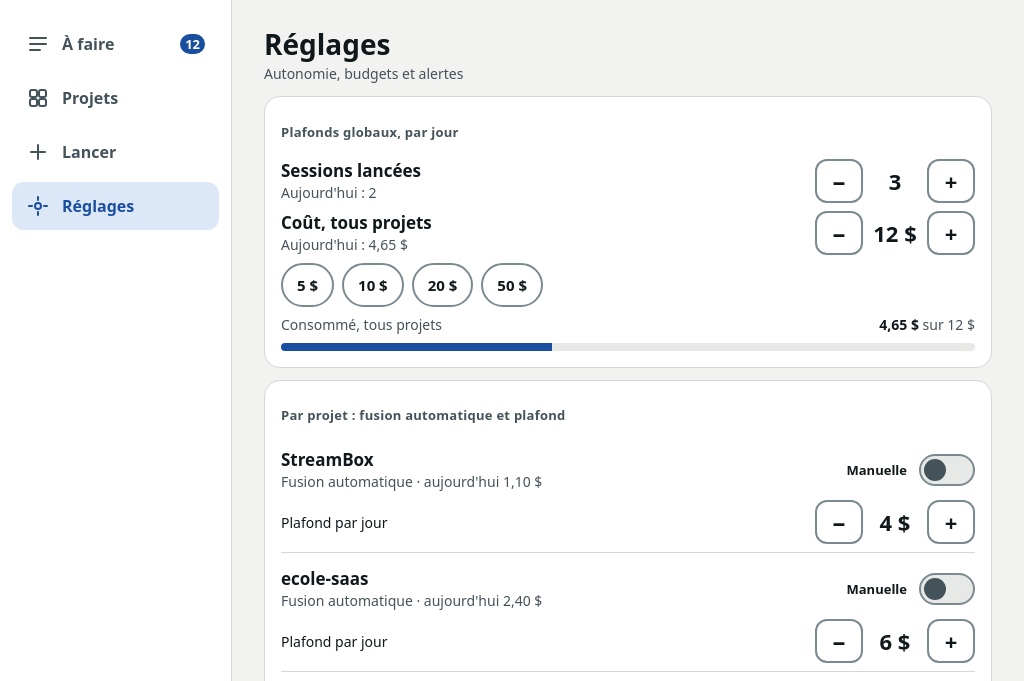
Test case: Réglages › le plafond d’un projet se reporte sur le projet
Click the button named "Augmenter le plafond de ecole-saas" at point(951, 641), box [927,619,975,663]
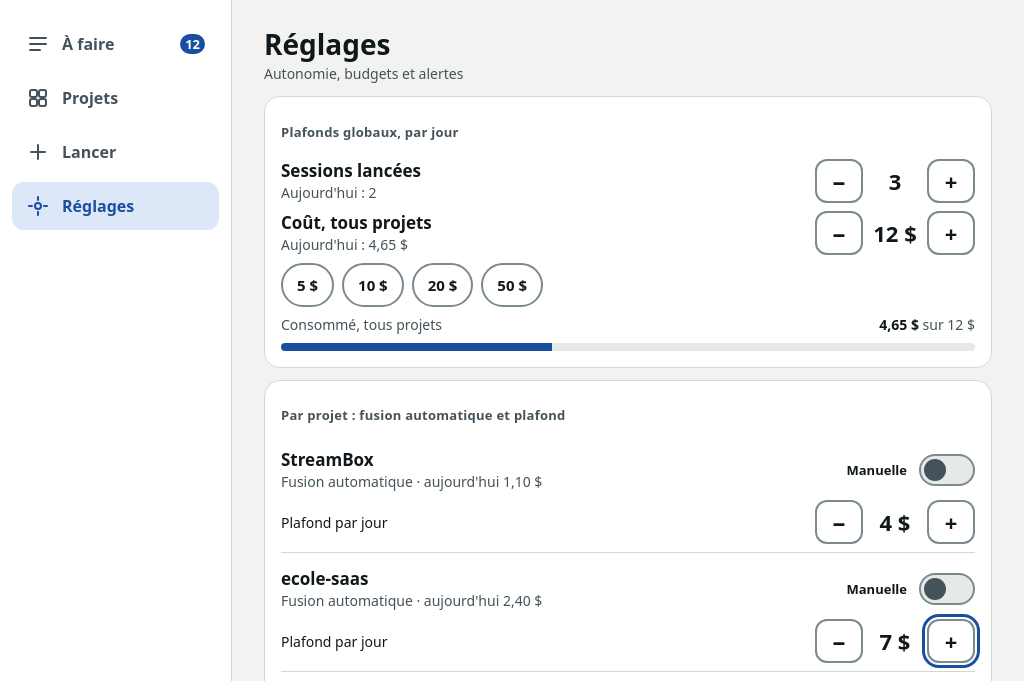
Click the link "Projets" at point(72, 98), box [26,86,118,110]
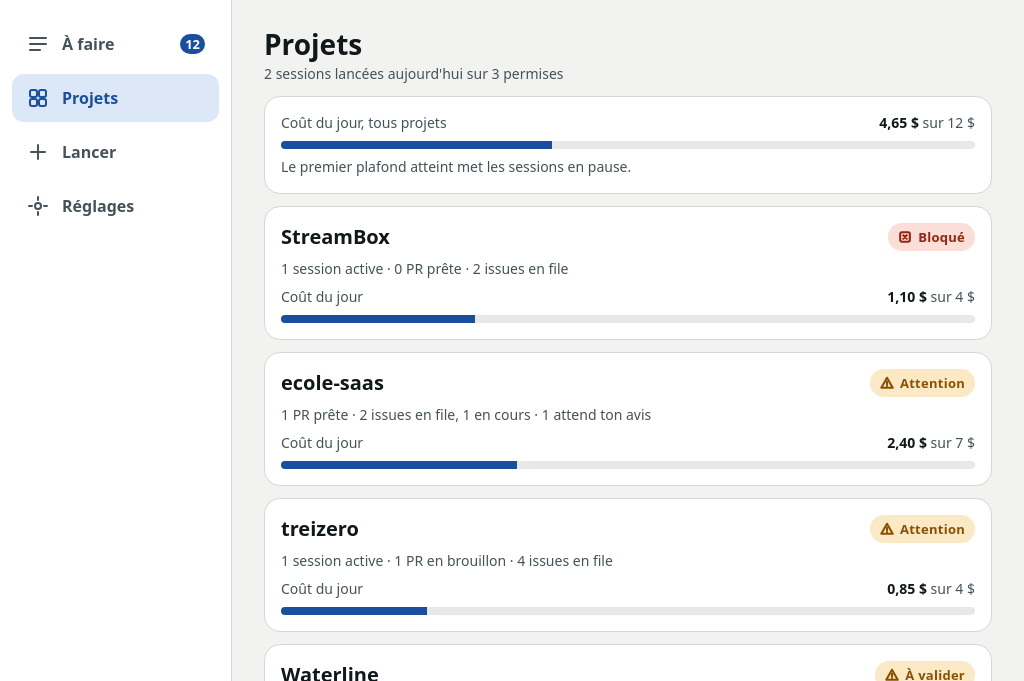
Click the link "ecole-saas" at point(628, 419), box [264,352,992,486]
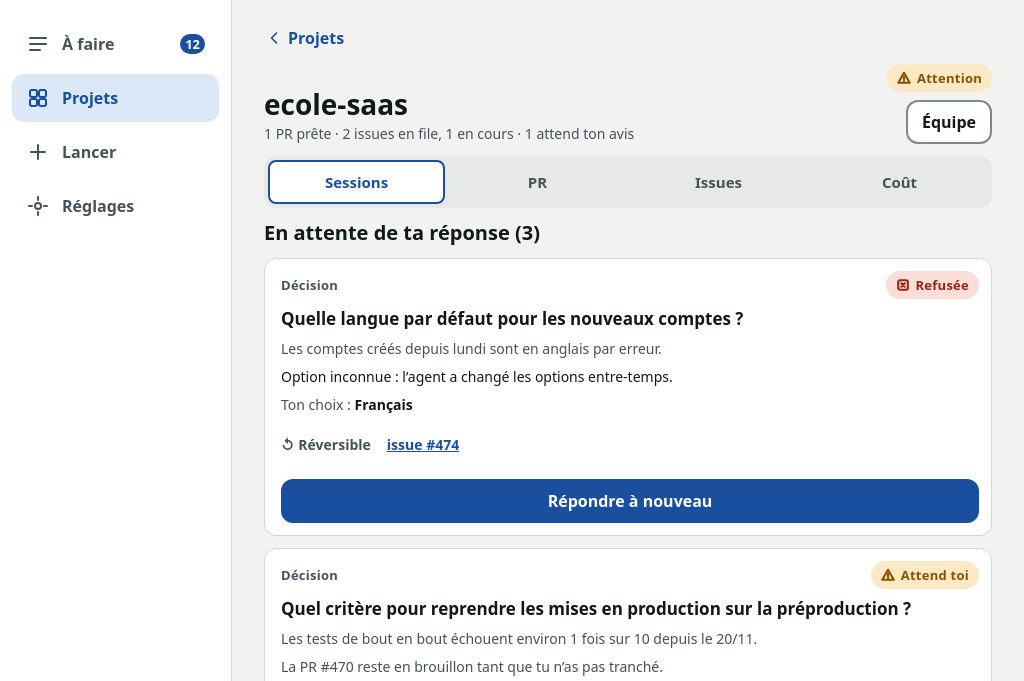
Click the link "Coût" at point(900, 182), box [882,172,917,192]
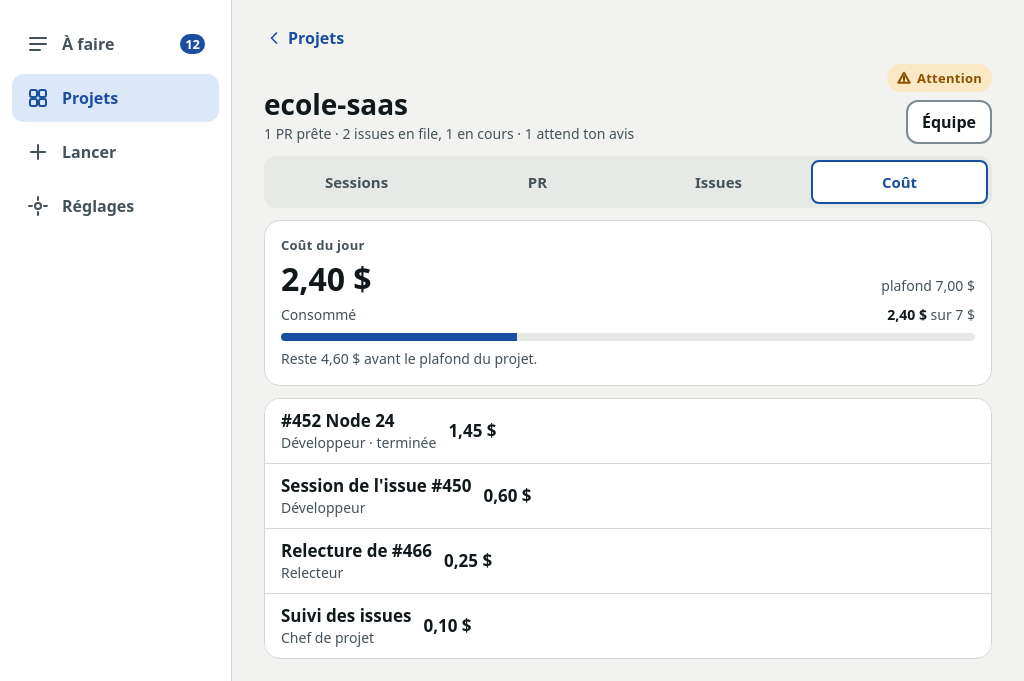
Now the text "Reste 4,60 $ avant le plafond du projet." is shown, box [281,349,537,368]
